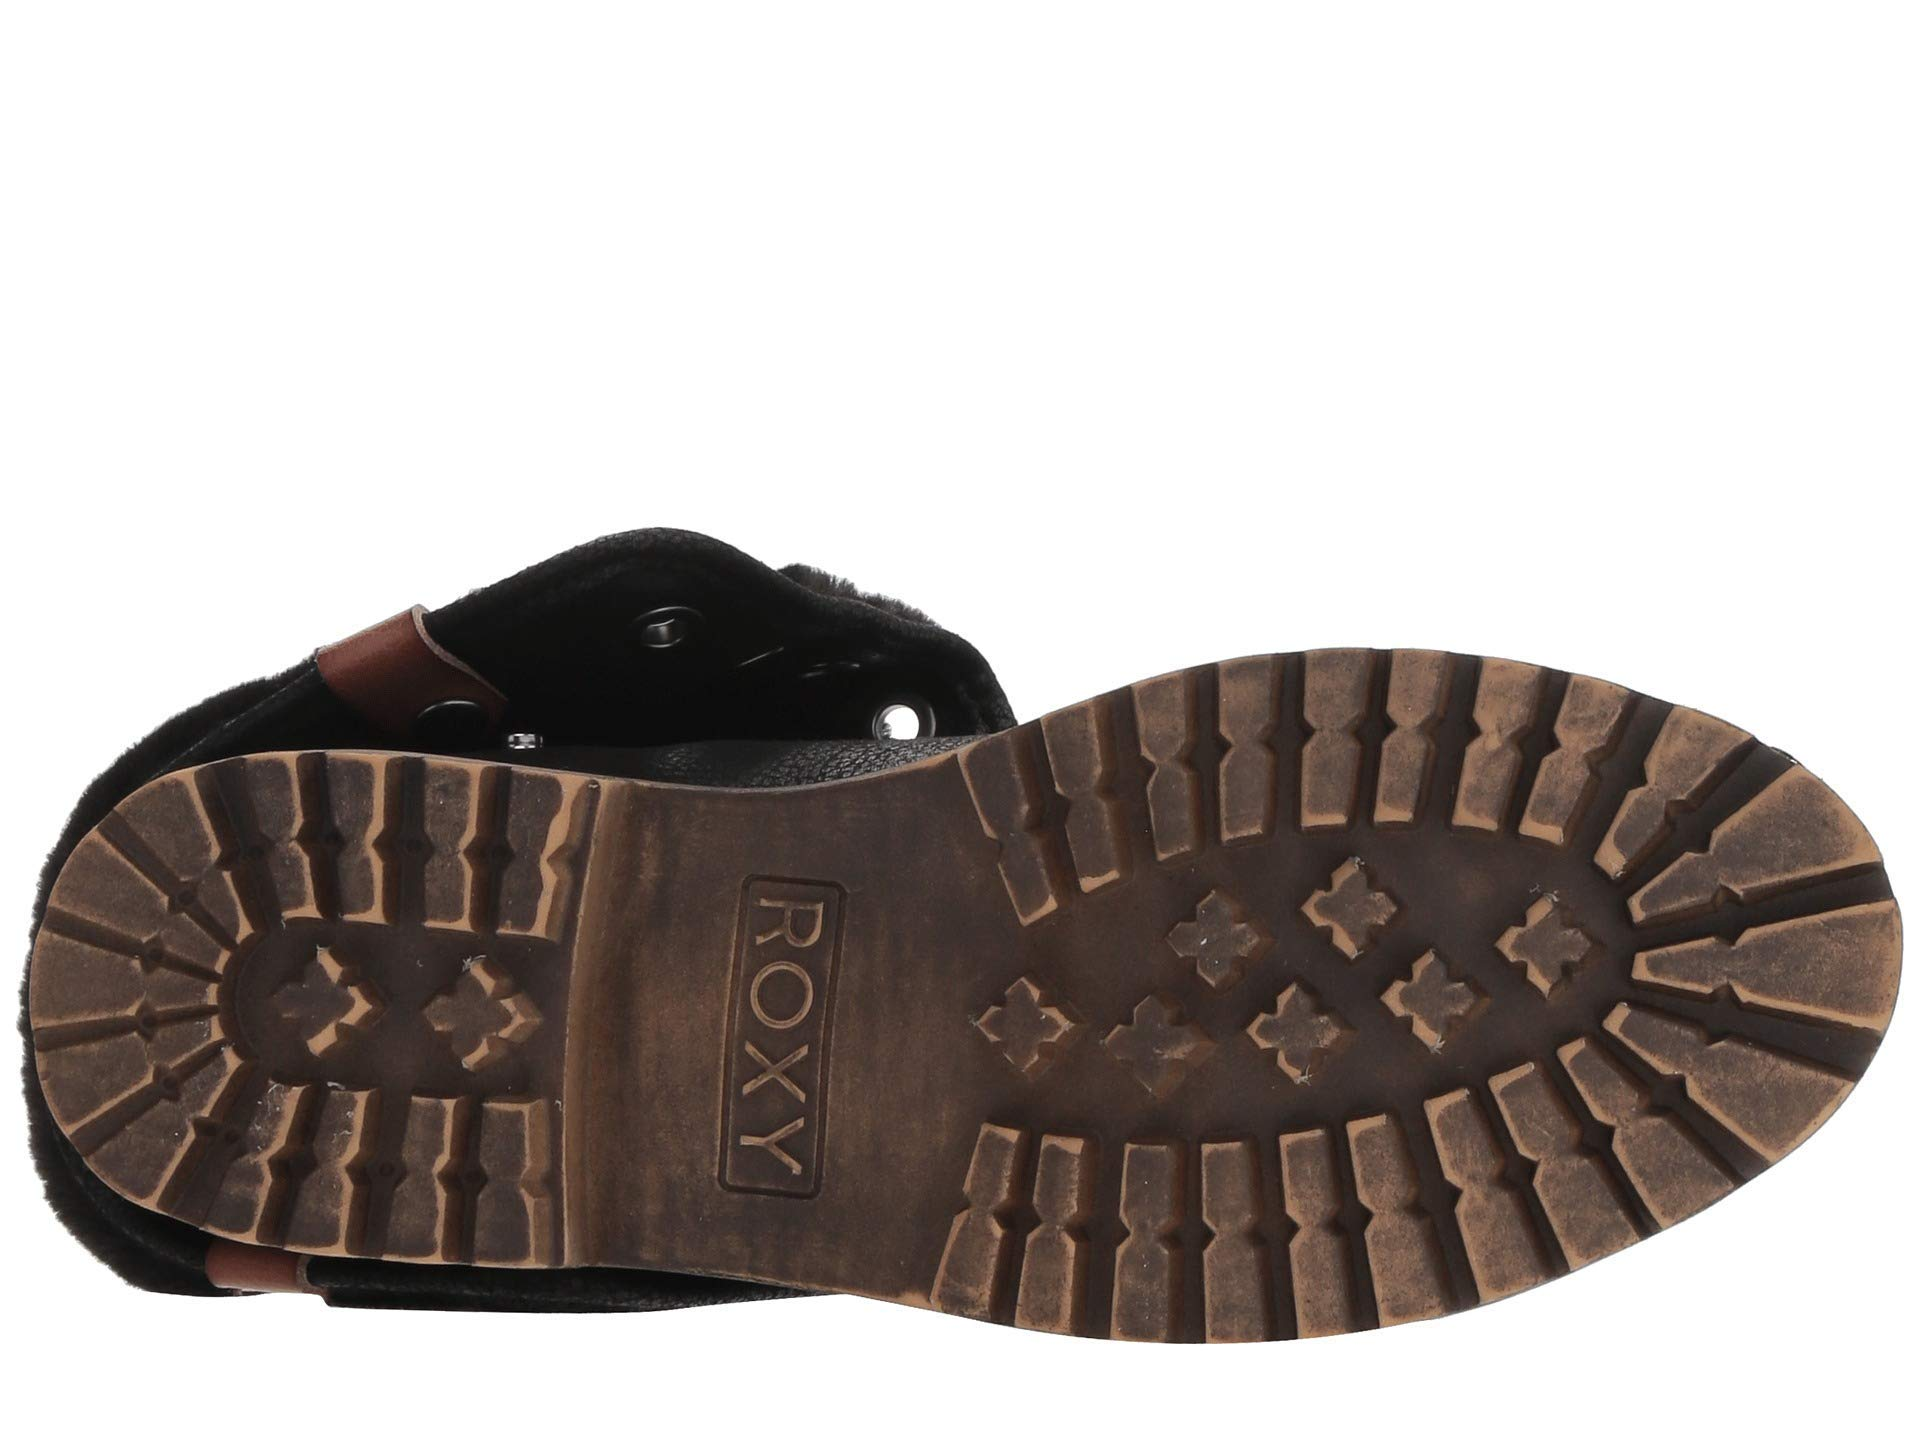bowtie: (1433, 594, 1915, 1121), (212, 747, 605, 1269), (918, 980, 1288, 1375), (1126, 622, 1417, 982), (1338, 1069, 1601, 1364), (1589, 691, 1869, 933), (234, 1063, 457, 1292), (1101, 1128, 1285, 1373), (1113, 655, 1296, 877), (1274, 629, 1451, 830)
circle: (632, 833, 974, 1227)
quad: (632, 833, 974, 1227)
star: (1433, 594, 1915, 1121), (212, 747, 605, 1269), (918, 980, 1288, 1375), (1126, 622, 1417, 982), (393, 927, 550, 1095), (1463, 858, 1616, 1016), (252, 932, 389, 1072), (1095, 971, 1215, 1122), (958, 951, 1076, 1103), (1287, 827, 1404, 976), (1367, 932, 1495, 1063), (1161, 877, 1281, 1007)
text: (632, 833, 974, 1227)
